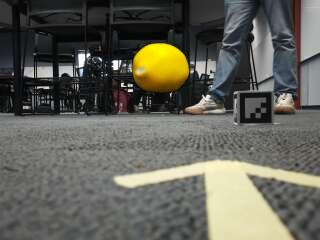lemon: (132, 43, 189, 93)
